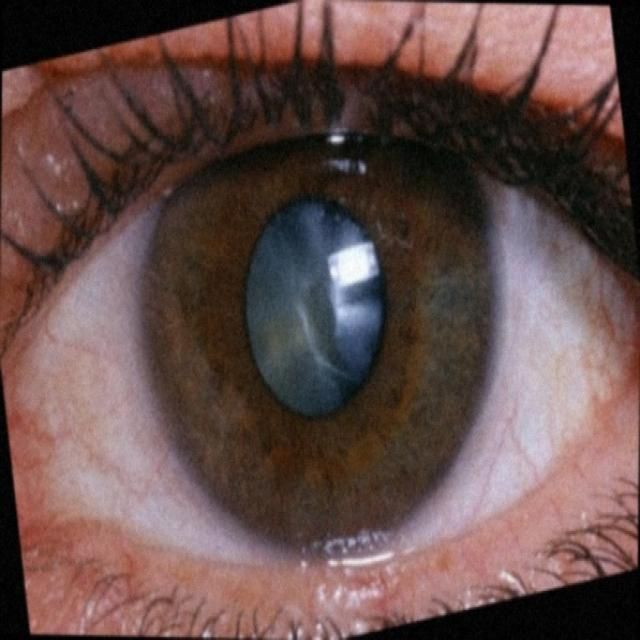Cataract: (100, 60, 538, 637)
